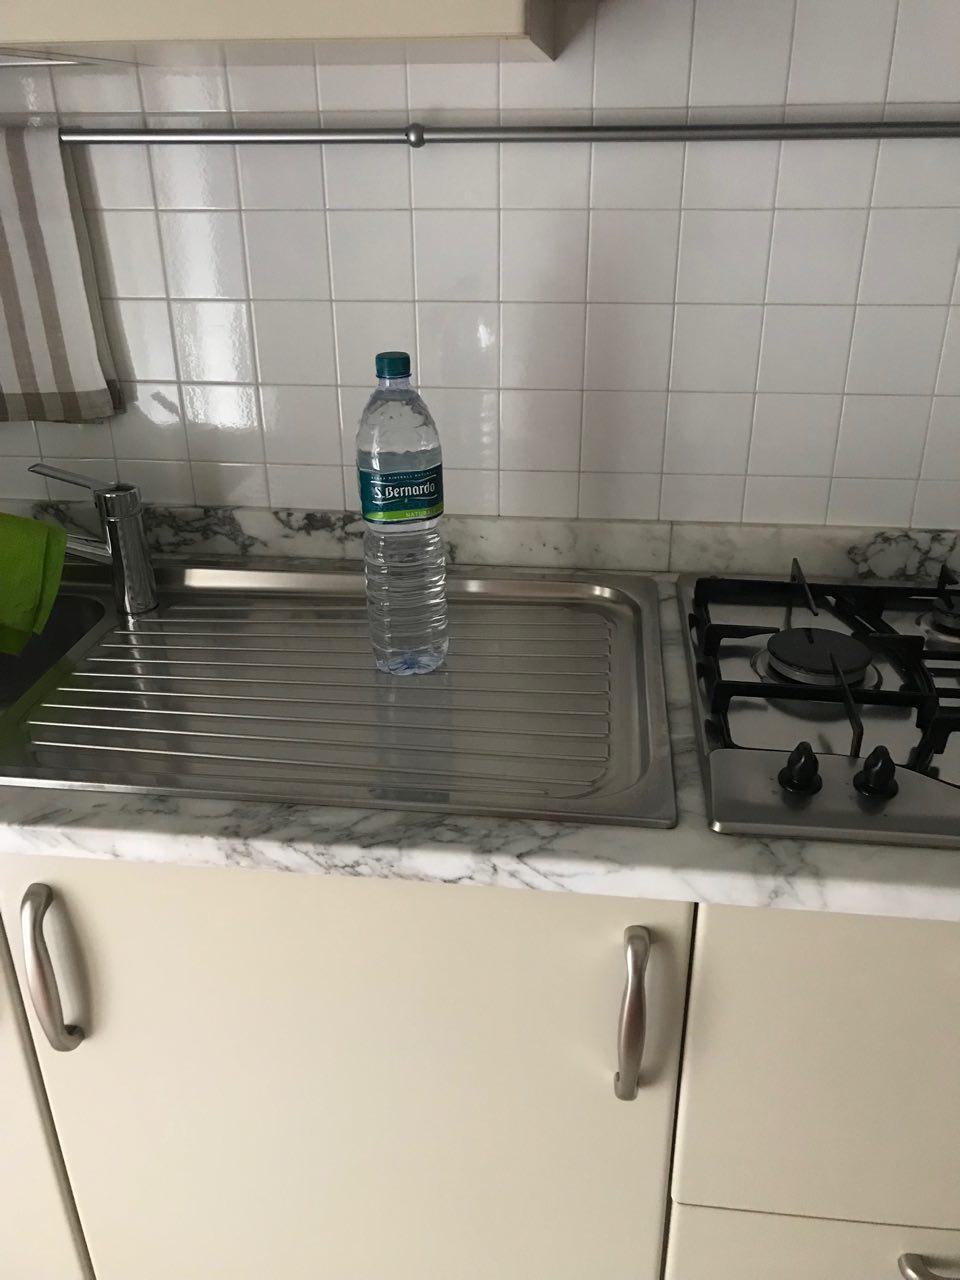san_bernardo: (355, 351, 448, 675)
